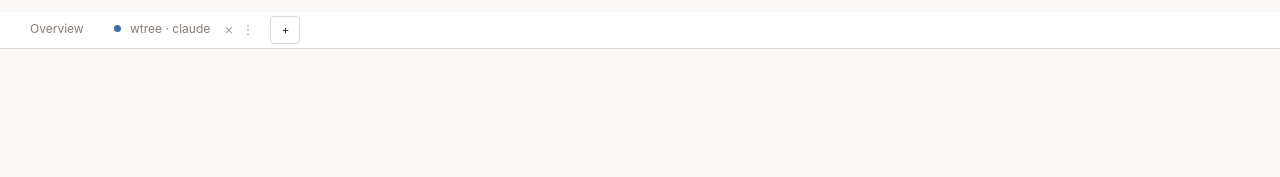
Test: AgentSessionTabsComponent open-the-ide (#628, #782) › remote SSH (#949) › the hint can be dismissed
Click the button with class "tab-menu-trigger" at (251, 29), box left=242, top=20, right=260, bottom=38
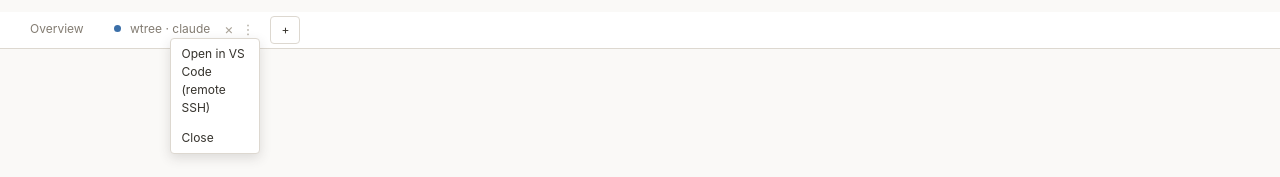
Click the menu item with class "tab-open-ide" at (216, 80), box left=172, top=38, right=260, bottom=122
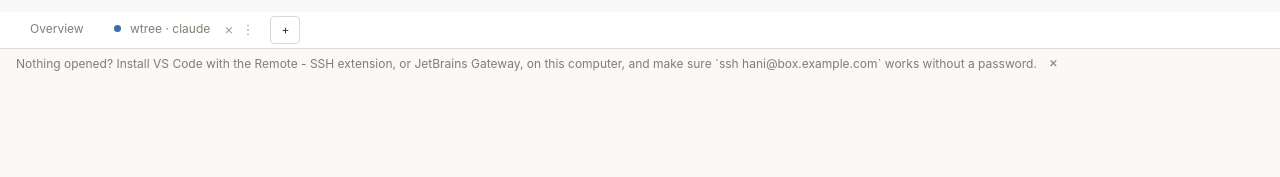
Click the button with class "ide-hint-dismiss" at (1054, 62), box left=1045, top=55, right=1062, bottom=69
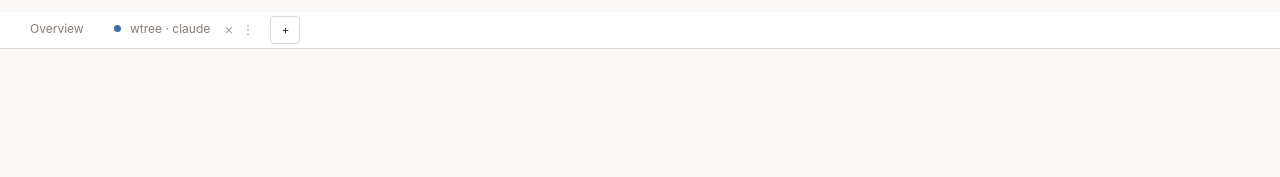
Expected: the message with class "ide-hint" is gone
